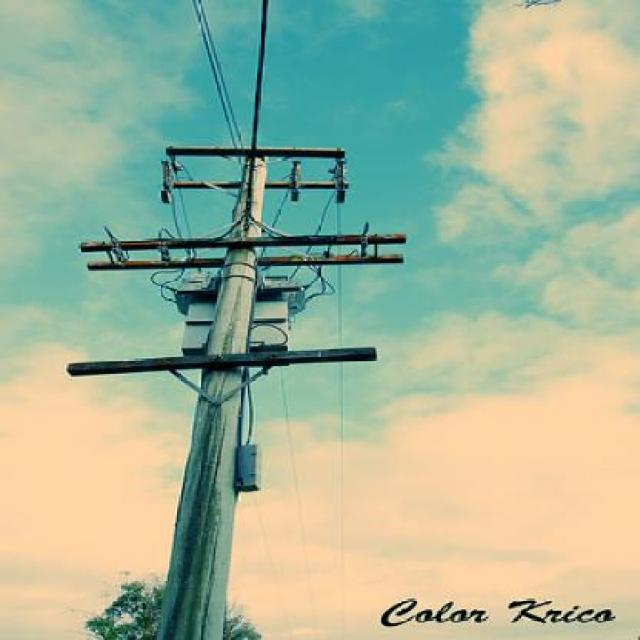pole: (153, 117, 344, 637)
